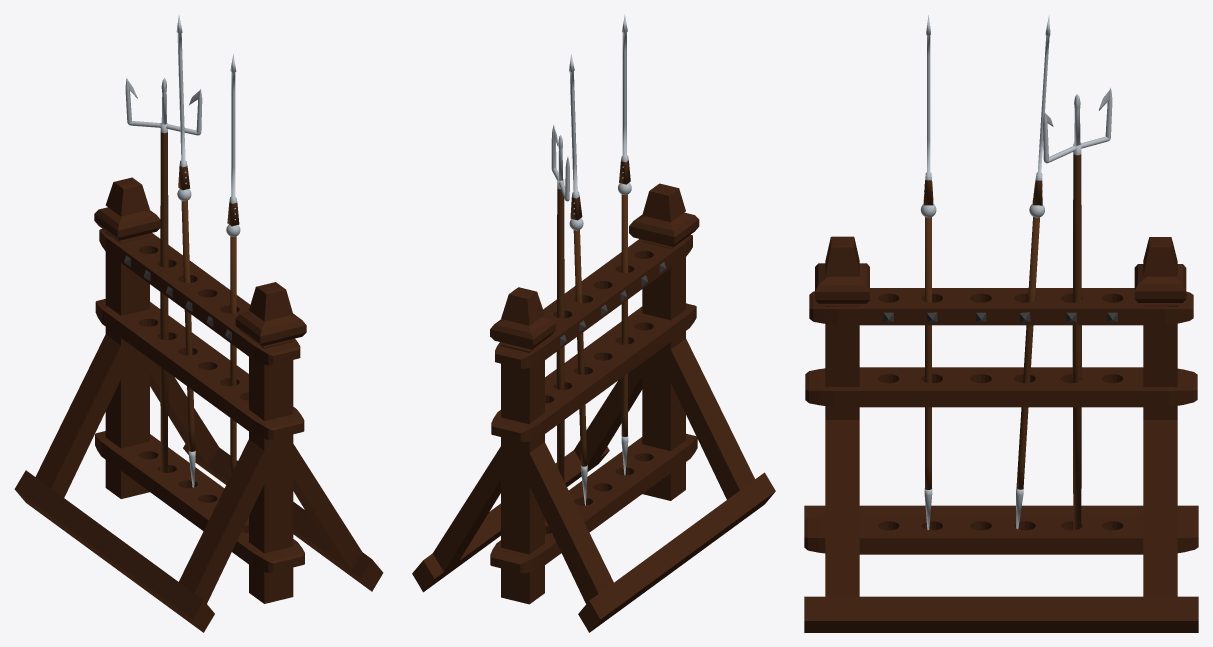
File: Speer Ständer Ver 7.fbx
The picture shows the model from 3 angles, left to right: view 1: azimuth 30°, elevation 25°; view 2: azimuth 150°, elevation 25°; view 3: azimuth 270°, elevation 25°; orthographic projection. The views are drawn at different scales.
Visible parts, largest first — view 1: Speer Stände Ver 7; view 2: Speer Stände Ver 7; view 3: Speer Stände Ver 7.
Part boxes in pixels (bbox=[...]): Speer Stände Ver 7: bbox=[14, 15, 383, 632]; Speer Stände Ver 7: bbox=[412, 14, 775, 632]; Speer Stände Ver 7: bbox=[804, 15, 1198, 632].
Bounding box in the file's own units: 84.24 × 218 × 136.
